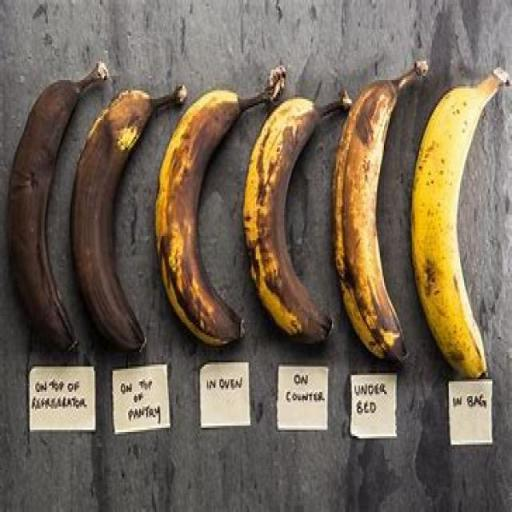fruit: (156, 66, 284, 344), (71, 86, 185, 348), (412, 69, 508, 377), (6, 61, 106, 348), (333, 61, 426, 359), (243, 92, 349, 342)
